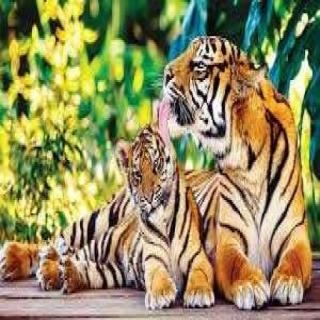Tiger: (153, 29, 320, 309), (5, 124, 227, 287)
